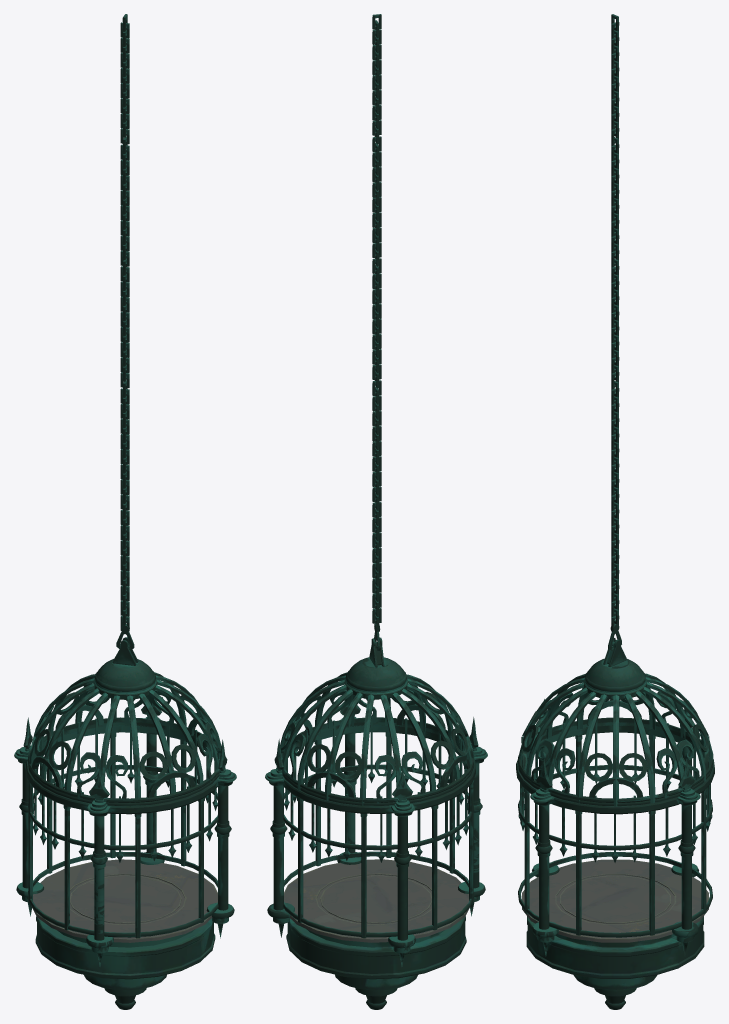
File: Room_Elevator.fbx
3 renders of one model, left to right at view 1: azimuth 30°, elevation 25°; view 2: azimuth 150°, elevation 25°; view 3: azimuth 270°, elevation 25°, orthographic.
Visible parts, largest first — view 1: MeshBaker_mesh_mesh; view 2: MeshBaker_mesh_mesh; view 3: MeshBaker_mesh_mesh.
Part boxes in pixels (x1,y1,x2,y2): MeshBaker_mesh_mesh: (14,14,236,1009); MeshBaker_mesh_mesh: (265,14,487,1009); MeshBaker_mesh_mesh: (516,14,714,1009).
Bounding box in the file's own units: 1027 × 5644 × 1027.
Materials: 2 (2 with a texture image).
